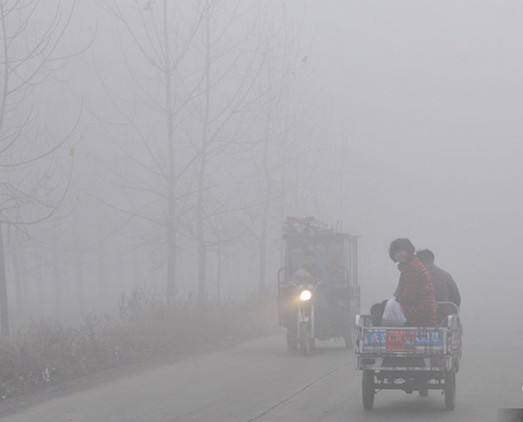person: (383, 237, 439, 328), (418, 247, 459, 316)
